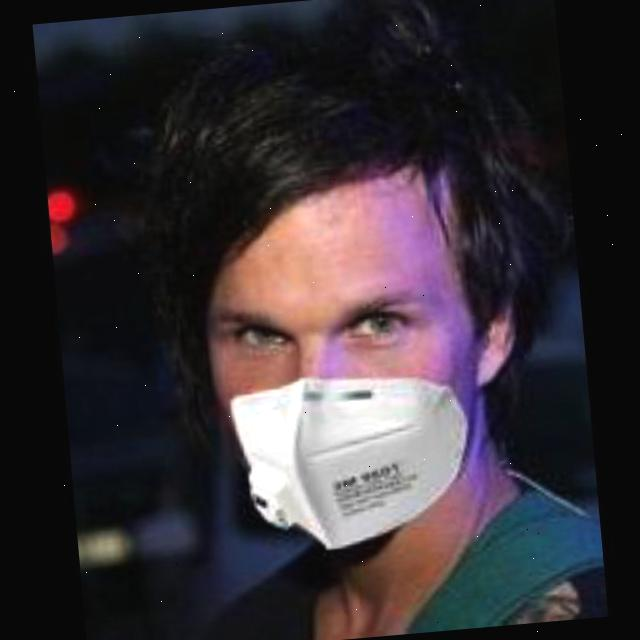suspicion: (77, 48, 542, 560)
